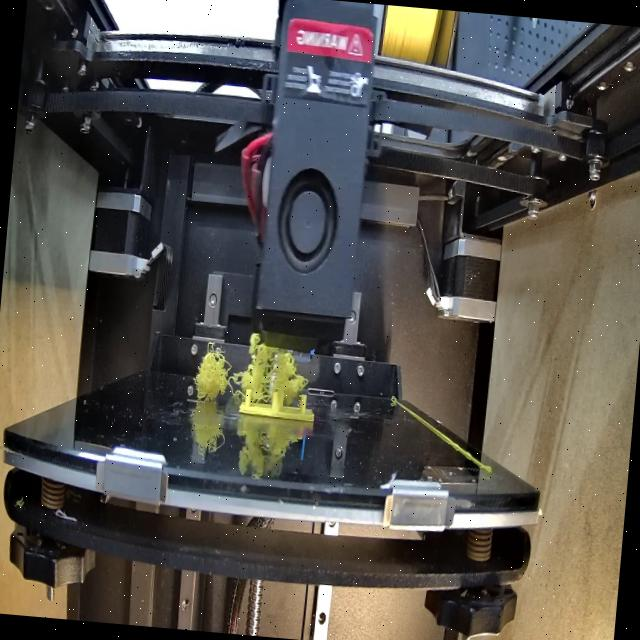spaghetti: (236, 330, 311, 403), (188, 346, 234, 404)
